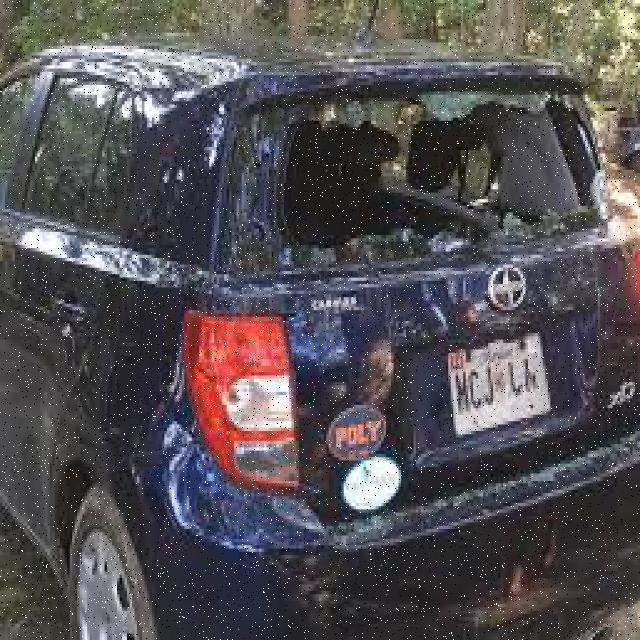Rear-windscreen-Damage: (209, 35, 638, 324)
